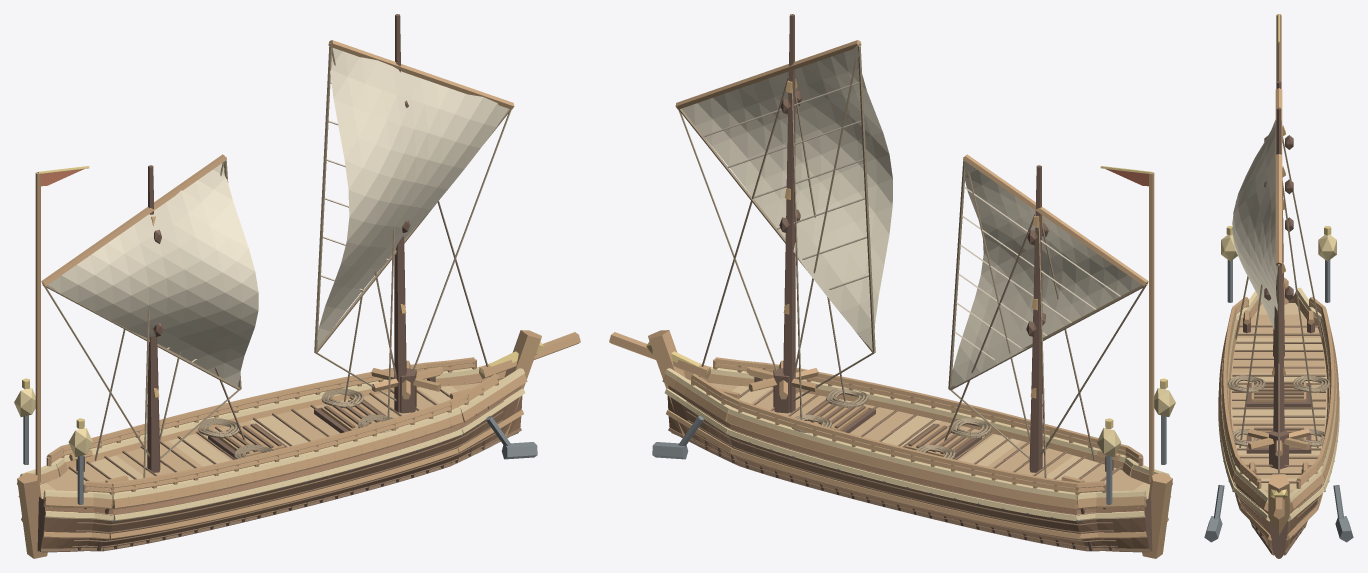
Rendered from pattamar-v5-mobile.glb.
The picture shows the model from 3 angles, left to right: view 1: azimuth 30°, elevation 25°; view 2: azimuth 150°, elevation 25°; view 3: azimuth 270°, elevation 25°; orthographic projection. The views are drawn at different scales.
Parts seen in each view (by area): view 1: pattamar_sails_sail, pattamar_hull_wood, pattamar_railings_wood, pattamar_hull_pale, pattamar_hull_seam, pattamar_hull_hull2, pattamar_hull_hull, pattamar_rigging_rope, pattamar_masts_darkwood, pattamar_hull_deck, pattamar_rigging_wood, pattamar_hull_decklight (+9 smaller); view 2: pattamar_sails_sail, pattamar_hull_wood, pattamar_railings_wood, pattamar_hull_pale, pattamar_hull_seam, pattamar_masts_darkwood, pattamar_rigging_rope, pattamar_hull_hull2, pattamar_hull_hull, pattamar_hull_deck, pattamar_rigging_wood, pattamar_hull_decklight (+11 smaller); view 3: pattamar_sails_sail, pattamar_hull_deck, pattamar_hull_wood, pattamar_hull_seam, pattamar_railings_wood, pattamar_hull_decklight, pattamar_hull_pale, pattamar_masts_darkwood, pattamar_fittings_iron, pattamar_fittings_wood, pattamar_masts_rope, pattamar_fittings_darkwood (+11 smaller).
Part boxes in pixels (left/top/right/bottom): pattamar_sails_sail: left=48, top=48, right=508, bottom=386; pattamar_hull_wood: left=17, top=330, right=580, bottom=558; pattamar_railings_wood: left=46, top=357, right=498, bottom=504; pattamar_hull_pale: left=18, top=366, right=525, bottom=520; pattamar_hull_seam: left=40, top=389, right=521, bottom=552; pattamar_hull_hull2: left=40, top=385, right=521, bottom=548; pattamar_hull_hull: left=38, top=395, right=522, bottom=551; pattamar_rigging_rope: left=42, top=43, right=511, bottom=459; pattamar_masts_darkwood: left=147, top=14, right=410, bottom=472; pattamar_hull_deck: left=46, top=379, right=501, bottom=505; pattamar_rigging_wood: left=41, top=40, right=514, bottom=286; pattamar_hull_decklight: left=40, top=386, right=457, bottom=508; pattamar_sails_sail: left=682, top=45, right=1141, bottom=386; pattamar_hull_wood: left=609, top=330, right=1172, bottom=558; pattamar_railings_wood: left=691, top=357, right=1143, bottom=504; pattamar_hull_pale: left=664, top=366, right=1171, bottom=520; pattamar_hull_seam: left=668, top=389, right=1149, bottom=552; pattamar_masts_darkwood: left=779, top=14, right=1048, bottom=472; pattamar_rigging_rope: left=678, top=43, right=1147, bottom=459; pattamar_hull_hull2: left=668, top=385, right=1149, bottom=548; pattamar_hull_hull: left=667, top=395, right=1151, bottom=551; pattamar_hull_deck: left=688, top=379, right=1143, bottom=505; pattamar_rigging_wood: left=675, top=40, right=1148, bottom=286; pattamar_hull_decklight: left=732, top=386, right=1149, bottom=508; pattamar_sails_sail: left=1232, top=120, right=1277, bottom=329; pattamar_hull_deck: left=1230, top=314, right=1327, bottom=493; pattamar_hull_wood: left=1218, top=277, right=1339, bottom=547; pattamar_hull_seam: left=1232, top=325, right=1325, bottom=555; pattamar_railings_wood: left=1222, top=296, right=1335, bottom=488; pattamar_hull_decklight: left=1230, top=303, right=1327, bottom=489; pattamar_hull_pale: left=1218, top=287, right=1339, bottom=521; pattamar_masts_darkwood: left=1264, top=81, right=1293, bottom=432; pattamar_fittings_iron: left=1204, top=260, right=1353, bottom=542; pattamar_fittings_wood: left=1243, top=310, right=1314, bottom=473; pattamar_masts_rope: left=1235, top=136, right=1322, bottom=447; pattamar_fittings_darkwood: left=1243, top=317, right=1314, bottom=473.
Bounding box in the file's own units: 40.97 × 31.94 × 10.65.
